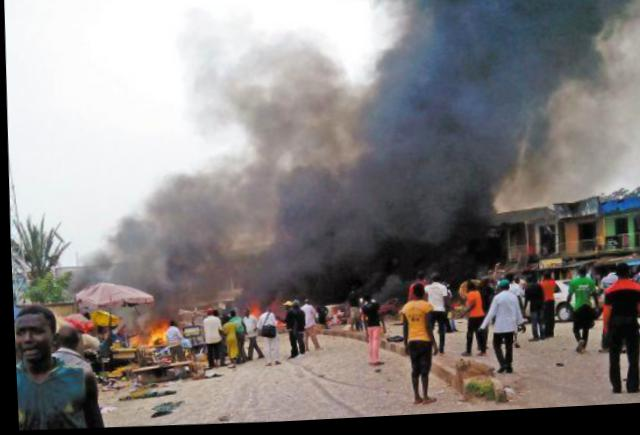fire: (144, 318, 168, 342)
